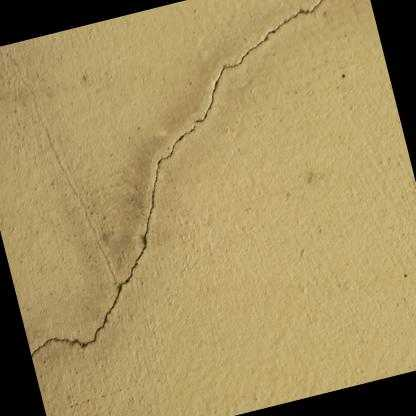crack: (30, 0, 322, 358)
